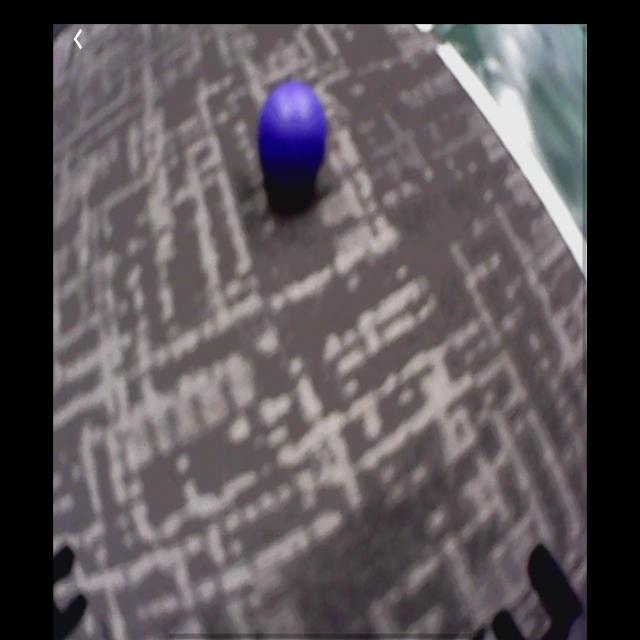ball: (259, 84, 329, 187)
